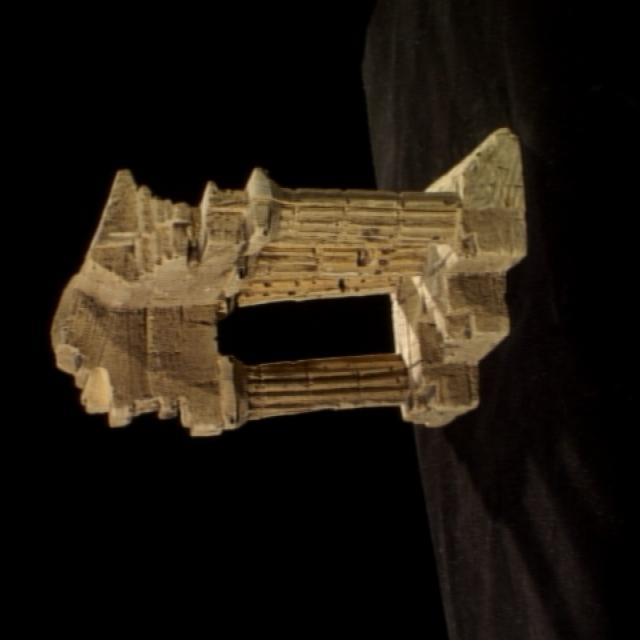Instance-Segmentation: (52, 129, 525, 435)
